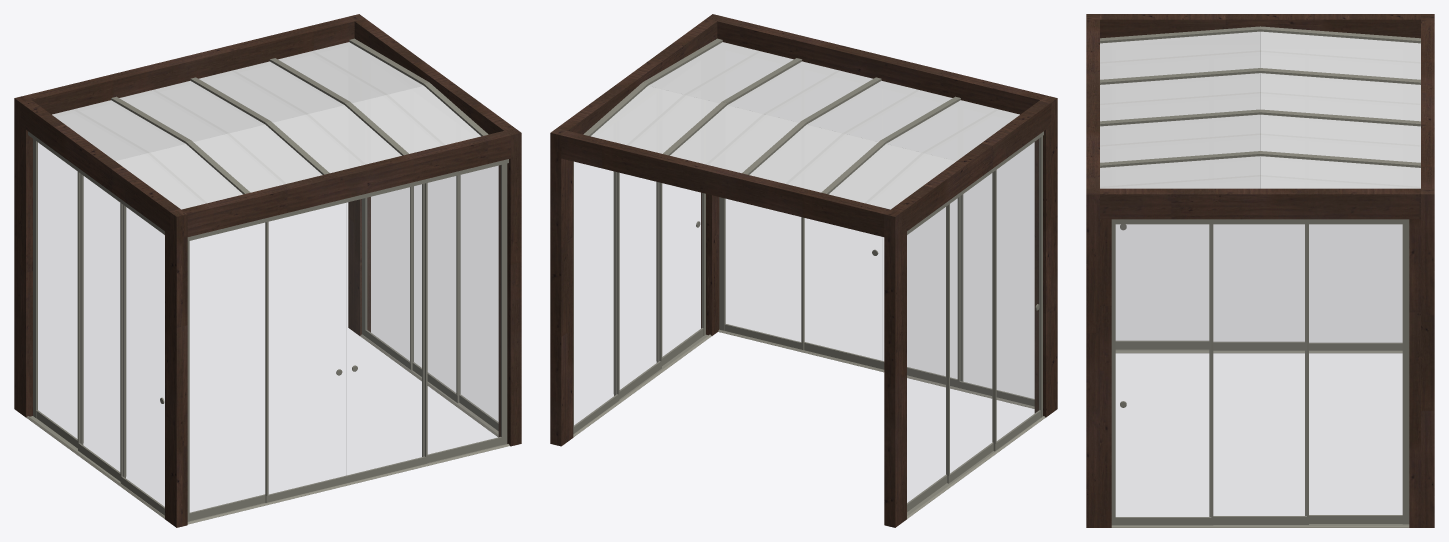
The model's file is agp_h27-w30-d24_darkpine.fbx.
3 views of the same model, side by side, from view 1: azimuth 30°, elevation 25°; view 2: azimuth 150°, elevation 25°; view 3: azimuth 270°, elevation 25° (orthographic). The views are drawn at different scales.
Visible parts, largest first — view 1: agp_h27-w30-d24_darkpine.002; view 2: agp_h27-w30-d24_darkpine.002; view 3: agp_h27-w30-d24_darkpine.002.
Part boxes in pixels (<box>): agp_h27-w30-d24_darkpine.002: <box>14,14,521,527</box>; agp_h27-w30-d24_darkpine.002: <box>550,14,1057,527</box>; agp_h27-w30-d24_darkpine.002: <box>1086,14,1434,527</box>.
Bounding box in the file's own units: 313 × 270 × 255.
Materials: 4 (2 with a texture image).
